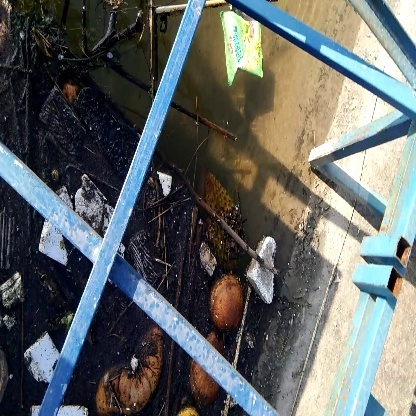plastic-bag: (221, 15, 270, 96)
